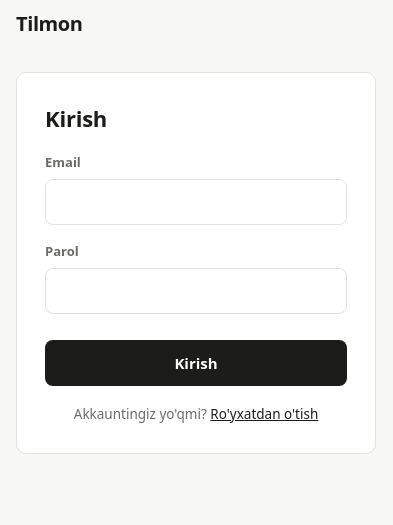
Test: kirish › xato ma'lumotda xabar ko'rsatadi va sahifada qoladi
Type "a@b.uz" into the field labelled "Email" at x=196, y=202, box left=45, top=179, right=347, bottom=225
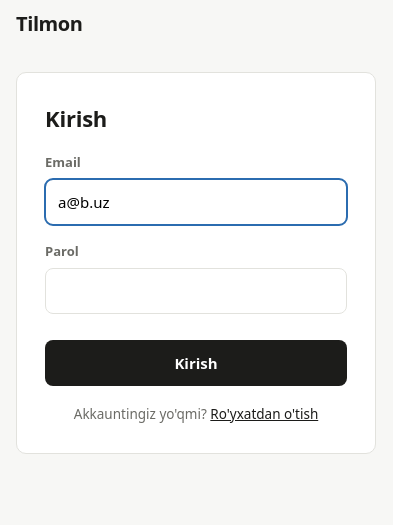
Type "notogri-parol" into the password field labelled "Parol" at x=196, y=291, box left=45, top=268, right=347, bottom=314
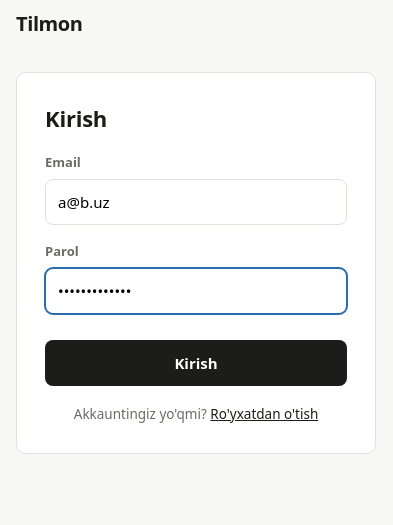
Click the button "Kirish" at x=196, y=363, box left=45, top=340, right=347, bottom=386
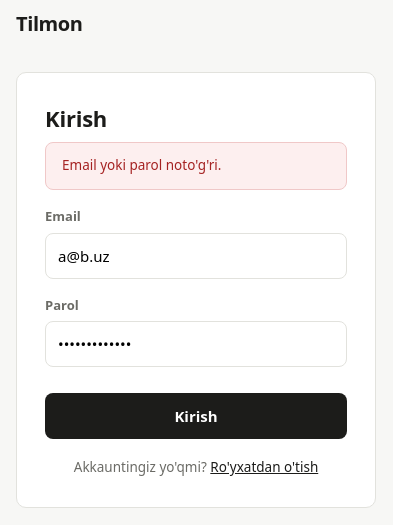
Expected: the form with test id "login-form" is shown, left=45, top=142, right=347, bottom=439
Result: the text with test id "auth-error" shows "noto'g'ri" at left=62, top=156, right=221, bottom=174
